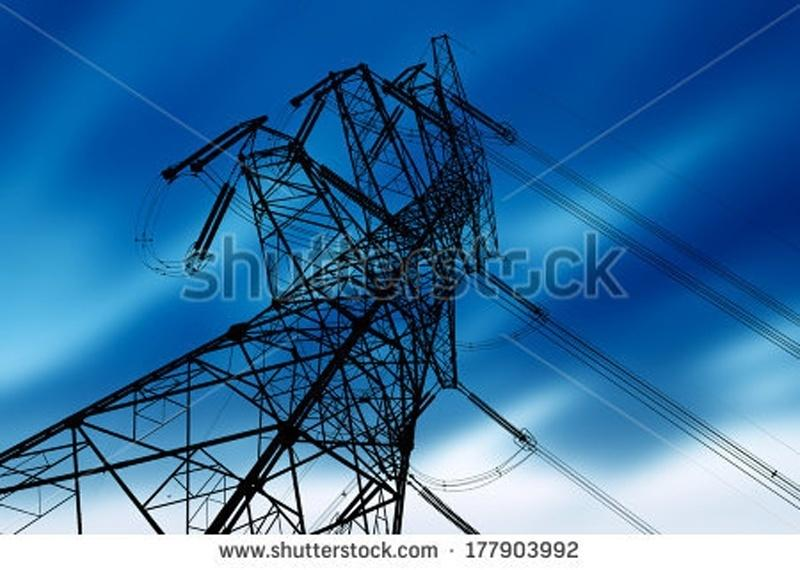power_tower: (15, 39, 583, 535)
